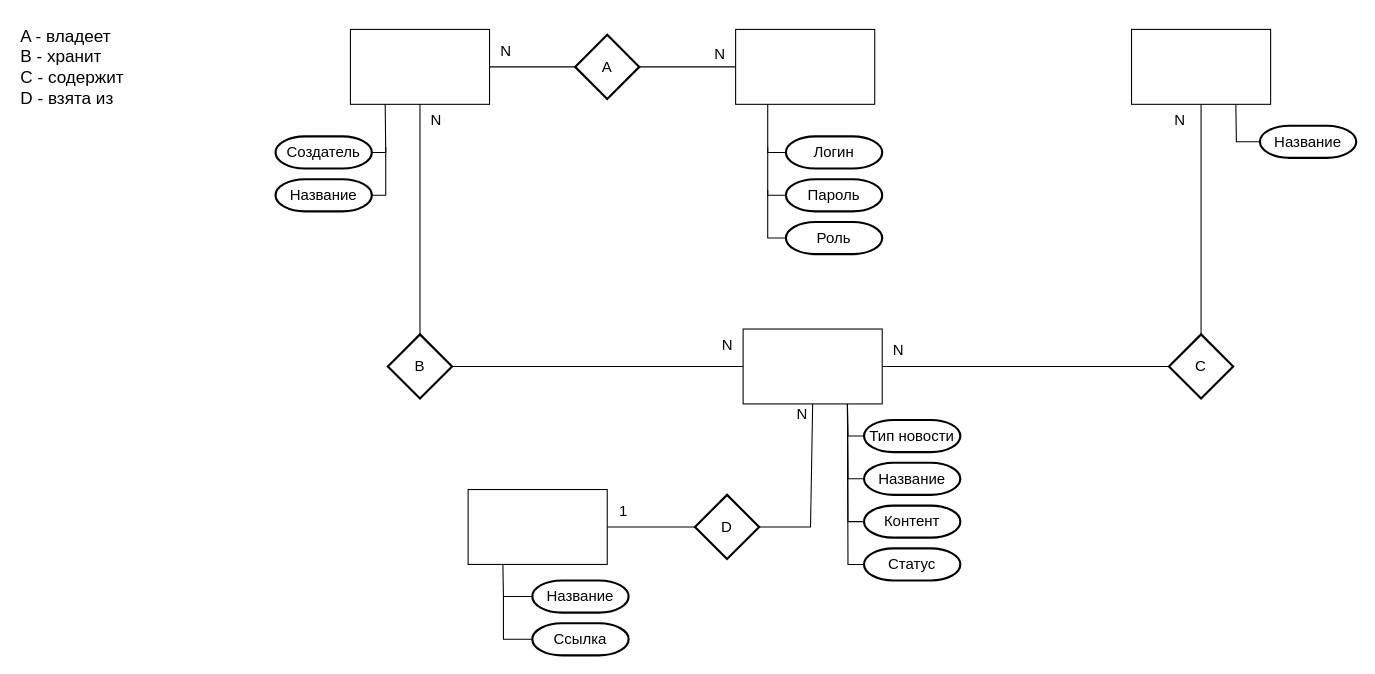
The diagram is 1375 pixels wide and 674 high, and some of its shapes have lost their labels. Each missing label, with the box of its shape:
Новость: (742, 328, 882, 404)
Папка: (349, 28, 490, 104)
Пользователь: (735, 28, 875, 104)
Ресурс: (467, 488, 607, 564)
Теги: (1130, 28, 1271, 104)
